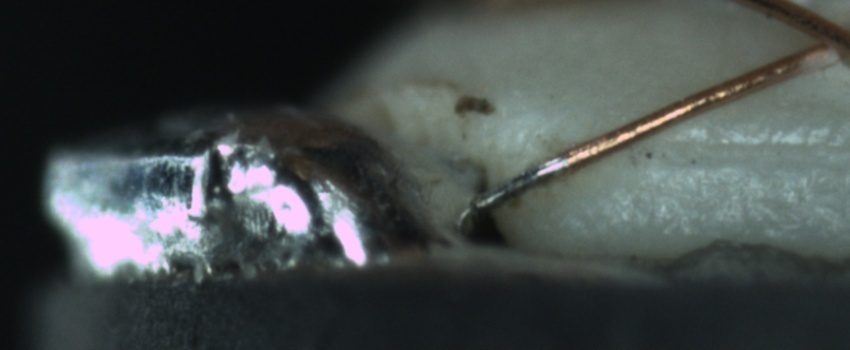CL: (793, 9, 850, 63)
DL: (636, 113, 845, 186)
TS: (468, 154, 568, 215)
